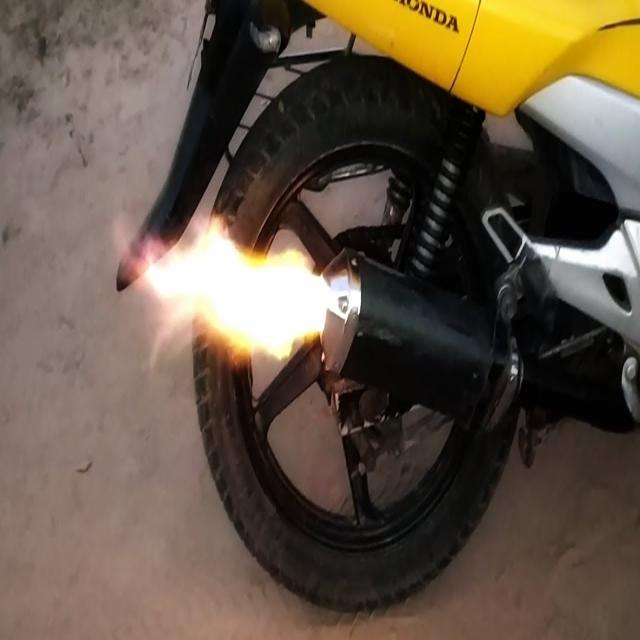fire: (114, 210, 346, 370)
